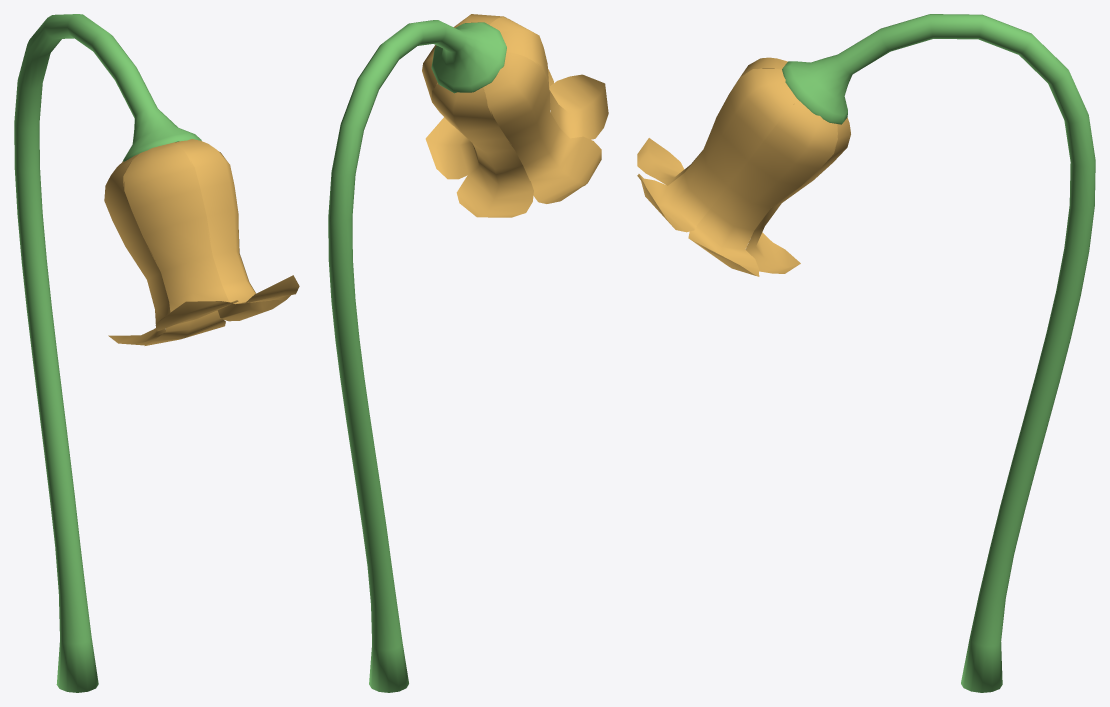
File: Flor3.fbx
3 views of the same model, side by side, from view 1: azimuth 30°, elevation 25°; view 2: azimuth 150°, elevation 25°; view 3: azimuth 270°, elevation 25° (orthographic). The views are drawn at different scales.
Visible parts, largest first — view 1: Cylinder, Circle; view 2: Circle, Cylinder; view 3: Cylinder, Circle.
Boxes of the visible parts, x1=… form: Cylinder: x1=14, y1=14, x2=201, y2=692; Circle: x1=104, y1=139, x2=299, y2=345; Circle: x1=422, y1=14, x2=608, y2=217; Cylinder: x1=328, y1=20, x2=506, y2=692; Cylinder: x1=782, y1=14, x2=1095, y2=692; Circle: x1=637, y1=57, x2=850, y2=276.
Size of the model in its own units: 549 by 2049 by 1272.
